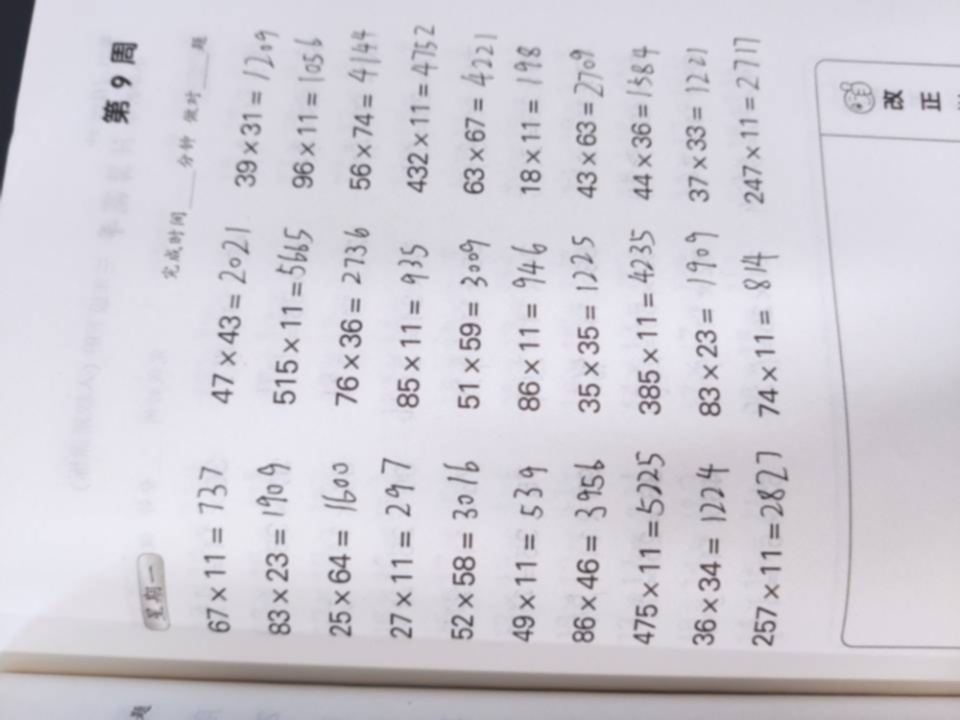equation: (741, 449, 798, 651), (186, 455, 241, 653), (309, 454, 364, 652), (243, 449, 298, 647), (497, 452, 552, 650), (431, 448, 486, 646), (364, 450, 419, 648), (619, 447, 674, 645), (556, 447, 611, 645), (677, 453, 732, 651), (328, 222, 383, 420), (261, 217, 316, 415), (198, 220, 253, 418), (499, 226, 554, 424), (443, 224, 498, 422), (378, 220, 433, 418), (619, 223, 674, 421), (559, 224, 614, 422), (735, 226, 790, 424), (676, 222, 731, 420), (615, 22, 670, 220), (670, 19, 725, 217), (721, 28, 776, 226), (453, 15, 508, 213), (504, 12, 559, 210), (561, 21, 616, 219), (281, 10, 336, 208), (333, 9, 388, 207), (391, 10, 446, 208), (227, 8, 282, 206)
